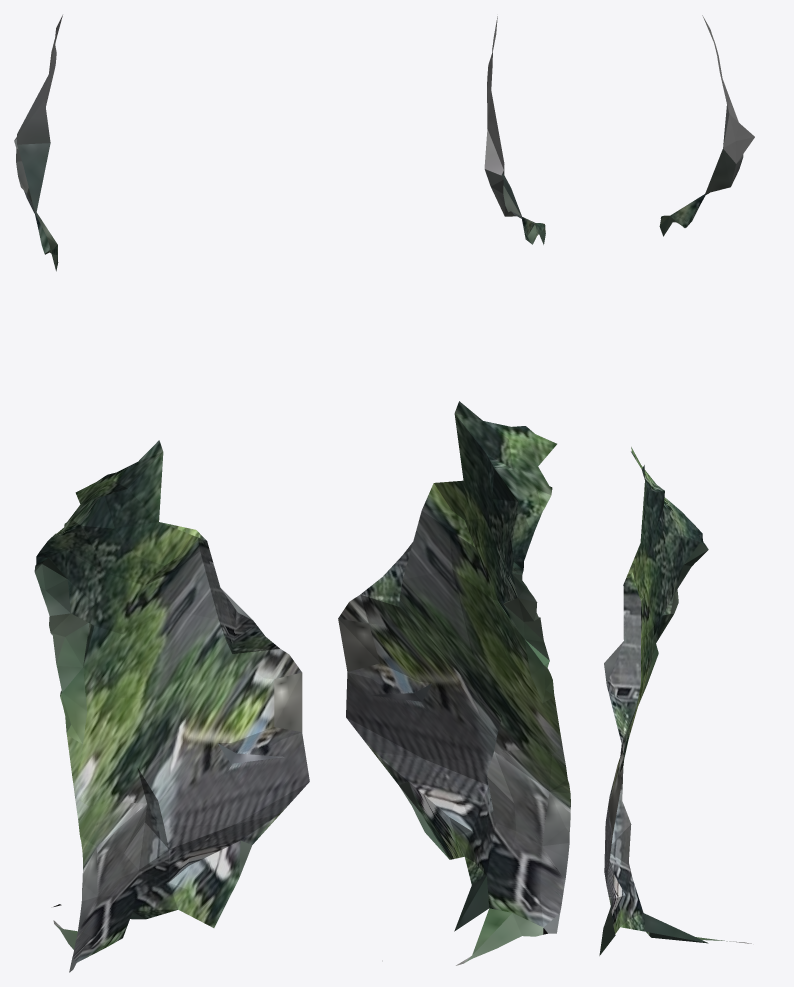
The model's file is Tile_+003_+004.obj.
The picture shows the model from 3 angles, left to right: view 1: azimuth 30°, elevation 25°; view 2: azimuth 150°, elevation 25°; view 3: azimuth 270°, elevation 25°; orthographic projection.
Size of the model in its own units: 25.47 by 100 by 17.79.
Materials: 1 (1 with a texture image).
